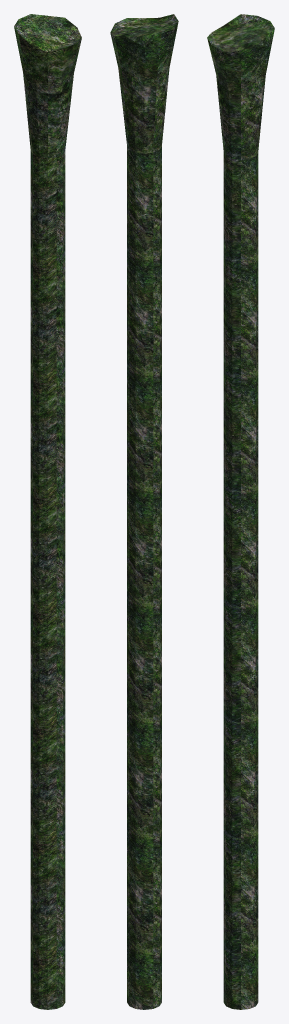
Rendered from Tall mountain.fbx.
The picture shows the model from 3 angles, left to right: view 1: azimuth 30°, elevation 25°; view 2: azimuth 210°, elevation 25°; view 3: azimuth 270°, elevation 25°; orthographic projection.
Parts seen in each view (by area): view 1: tall mountain; view 2: tall mountain; view 3: tall mountain.
Part boxes in pixels (left/top/right/bottom): tall mountain: left=14, top=14, right=81, bottom=1009; tall mountain: left=110, top=14, right=178, bottom=1009; tall mountain: left=207, top=14, right=274, bottom=1009.
Bounding box in the file's own units: 484 × 7663 × 484.
